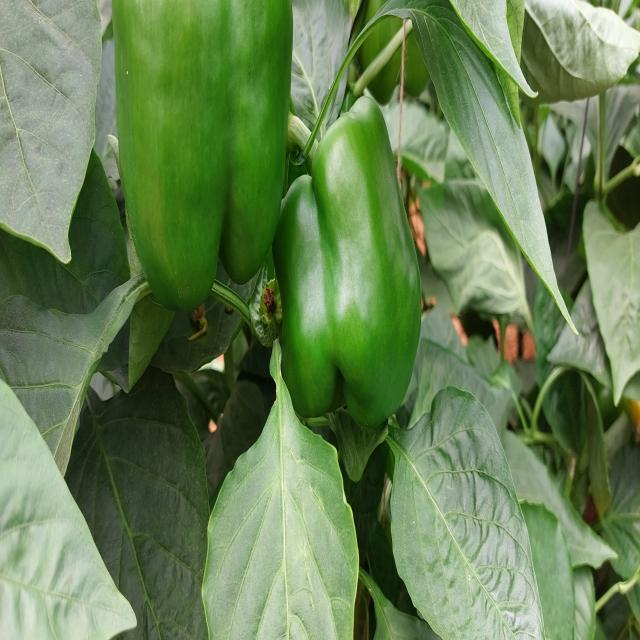Green--Not-ready-to-harvest: (273, 101, 432, 458), (114, 1, 284, 301)
